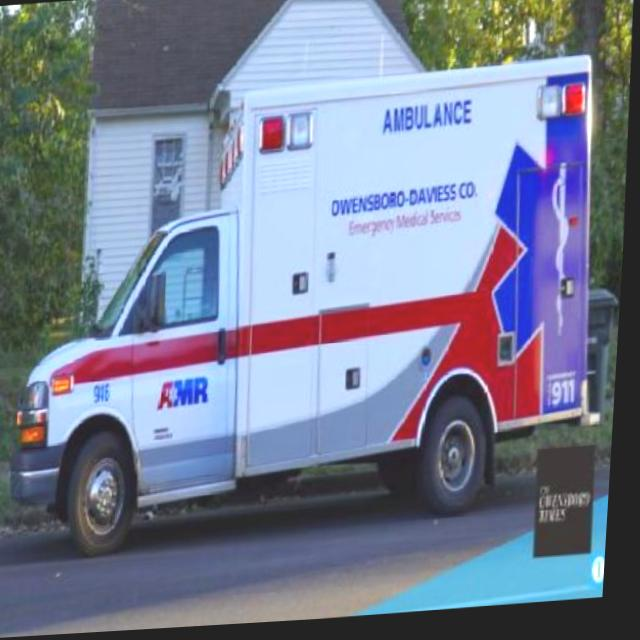emergency: (4, 54, 620, 563)
